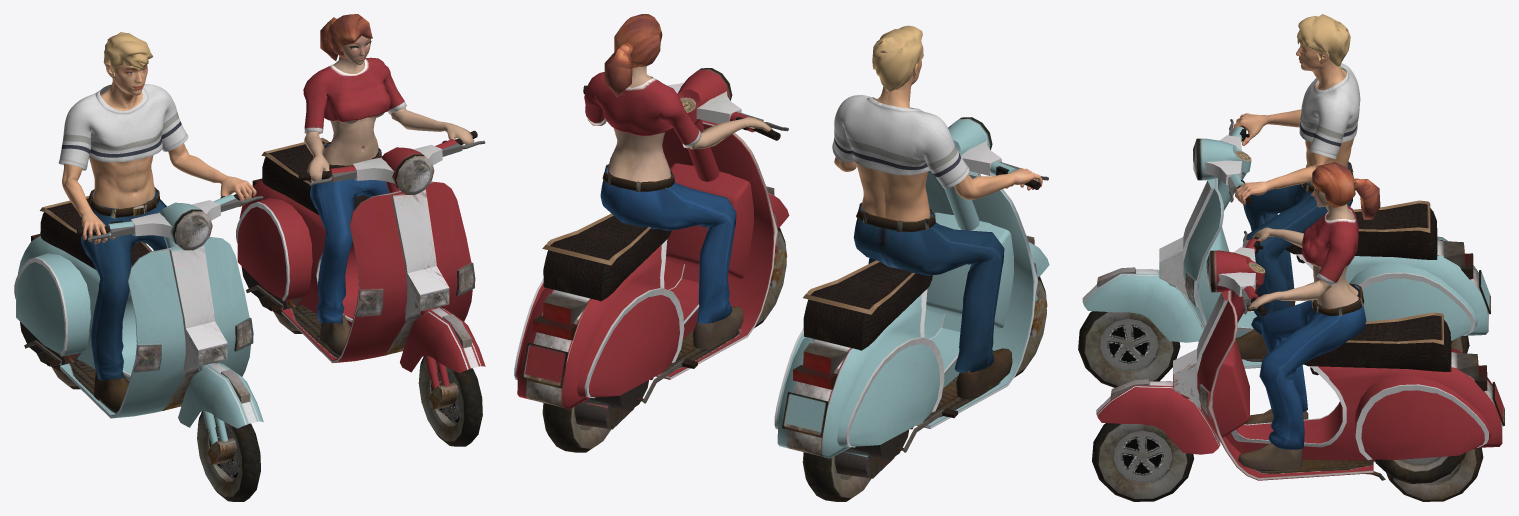
File: riderPair.glb
3 renders of one model, left to right at view 1: azimuth 30°, elevation 25°; view 2: azimuth 150°, elevation 25°; view 3: azimuth 270°, elevation 25°, orthographic. The views are drawn at different scales.
Visible parts, largest first — view 1: Vespa.001_9, Vespa_1, Female_12, Tee_8, Legs_4, Body_5, Shirt_13, tireShape1.001_10, tireShape1_2, Hair_7, Face_0; view 2: Vespa.001_9, Vespa_1, Female_12, Legs_4, Tee_8, Body_5, Shirt_13, Hair_7, tireShape2.001_11, tireShape2_3, tireShape1.001_10, tireShape1_2; view 3: Vespa.001_9, Vespa_1, Female_12, tireShape1.001_10, Legs_4, tireShape1_2, Tee_8, Body_5, Shirt_13, tireShape2.001_11, Hair_7, Face_0.
Part boxes in pixels (bbox=[...]): Vespa.001_9: bbox=[236, 130, 485, 410]; Vespa_1: bbox=[14, 186, 263, 465]; Female_12: bbox=[304, 14, 474, 355]; Tee_8: bbox=[58, 84, 188, 170]; Legs_4: bbox=[81, 187, 167, 411]; Body_5: bbox=[62, 82, 256, 243]; Shirt_13: bbox=[303, 57, 406, 133]; tireShape1.001_10: bbox=[418, 356, 482, 446]; tireShape1_2: bbox=[197, 411, 260, 501]; Hair_7: bbox=[103, 32, 153, 76]; Face_0: bbox=[106, 62, 147, 105]; Vespa.001_9: bbox=[514, 68, 789, 429]; Vespa_1: bbox=[774, 117, 1049, 478]; Female_12: bbox=[587, 14, 772, 348]; Legs_4: bbox=[853, 202, 1012, 399]; Tee_8: bbox=[832, 95, 969, 188]; Body_5: bbox=[834, 86, 1042, 221]; Shirt_13: bbox=[584, 72, 701, 148]; Hair_7: bbox=[872, 25, 923, 91]; tireShape2.001_11: bbox=[542, 403, 611, 452]; tireShape2_3: bbox=[802, 452, 871, 501]; tireShape1.001_10: bbox=[754, 227, 786, 327]; tireShape1_2: bbox=[1014, 276, 1046, 377]; Vespa.001_9: bbox=[1096, 228, 1504, 483]; Vespa_1: bbox=[1082, 119, 1490, 368]; Female_12: bbox=[1238, 162, 1380, 470]; tireShape1.001_10: bbox=[1092, 423, 1193, 501]; Legs_4: bbox=[1236, 161, 1353, 359]; tireShape1_2: bbox=[1078, 311, 1180, 387]; Tee_8: bbox=[1299, 63, 1360, 159]; Body_5: bbox=[1233, 66, 1354, 205]; Shirt_13: bbox=[1302, 205, 1358, 285]; tireShape2.001_11: bbox=[1386, 447, 1483, 501]; Hair_7: bbox=[1297, 14, 1350, 66]; Face_0: bbox=[1296, 44, 1337, 86].
Bounding box in the file's own units: 2.27 × 2.11 × 2.17.
Materials: 8 (8 with a texture image).
